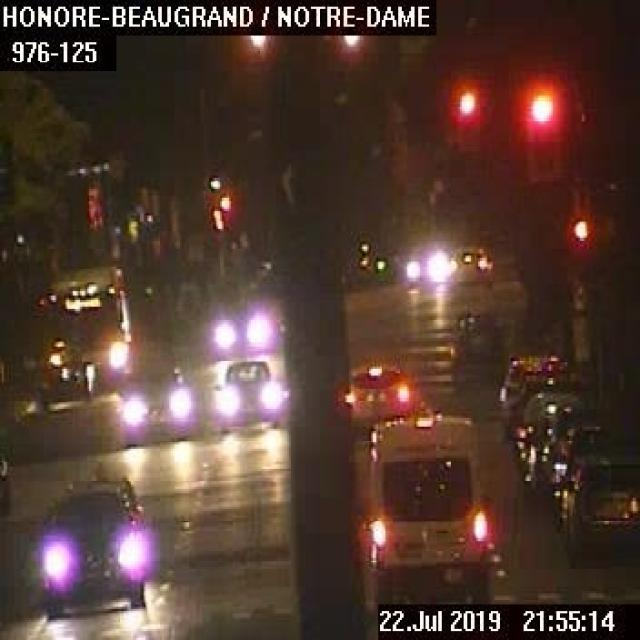bus: (38, 265, 132, 392)
vehicle: (360, 413, 493, 600), (38, 471, 146, 620), (559, 452, 638, 558), (116, 360, 195, 444), (214, 356, 284, 426), (343, 360, 410, 420), (500, 356, 566, 413), (209, 307, 273, 351)
